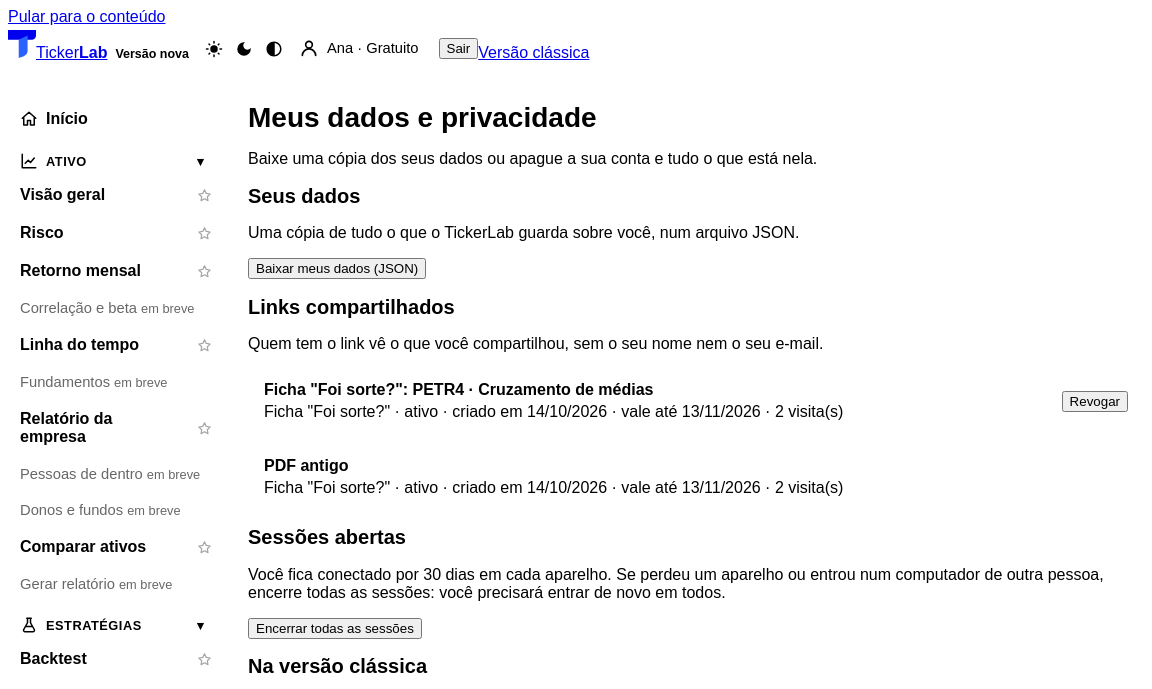
meus dados › revogar manda o id do link e atualiza a lista
The width and height of the screenshot is (1152, 689).
Click the button "Revogar".
click(1095, 401)  # box [1062,391,1128,412]
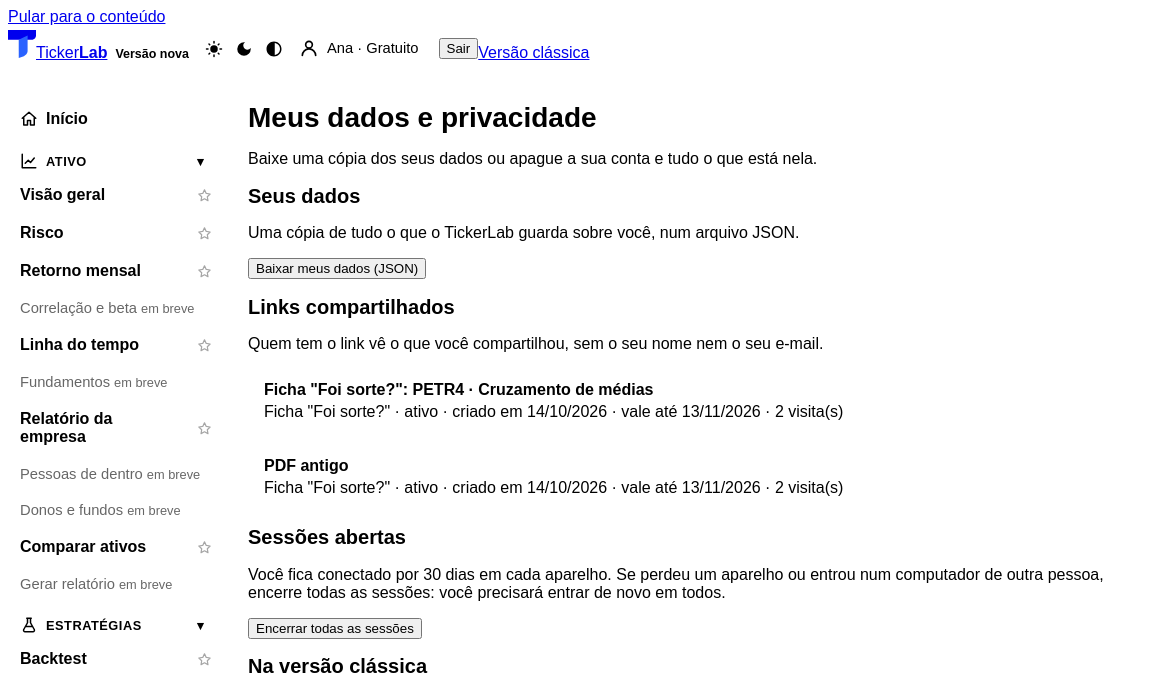
Check: the button "Revogar" is gone
